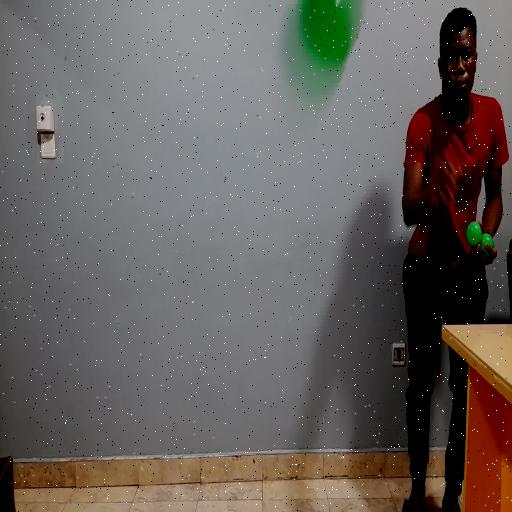plastic-ball: (280, 0, 367, 115)
